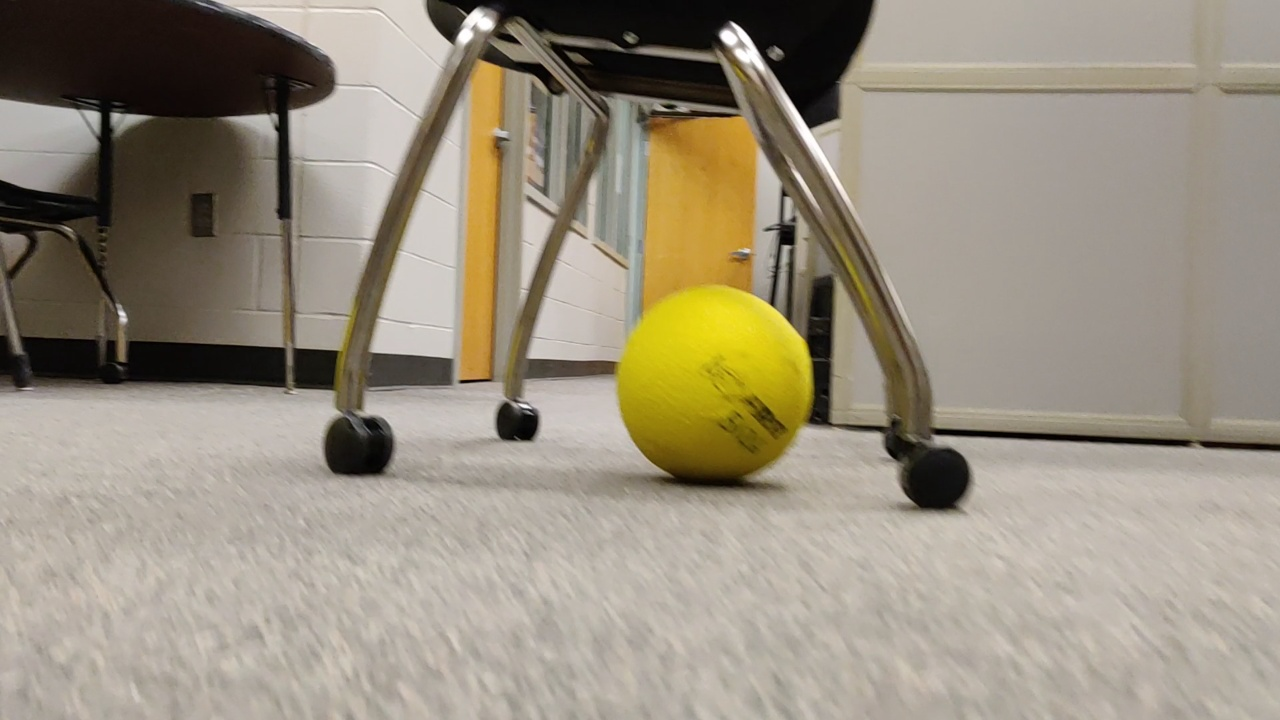Ball: (616, 283, 814, 488)
